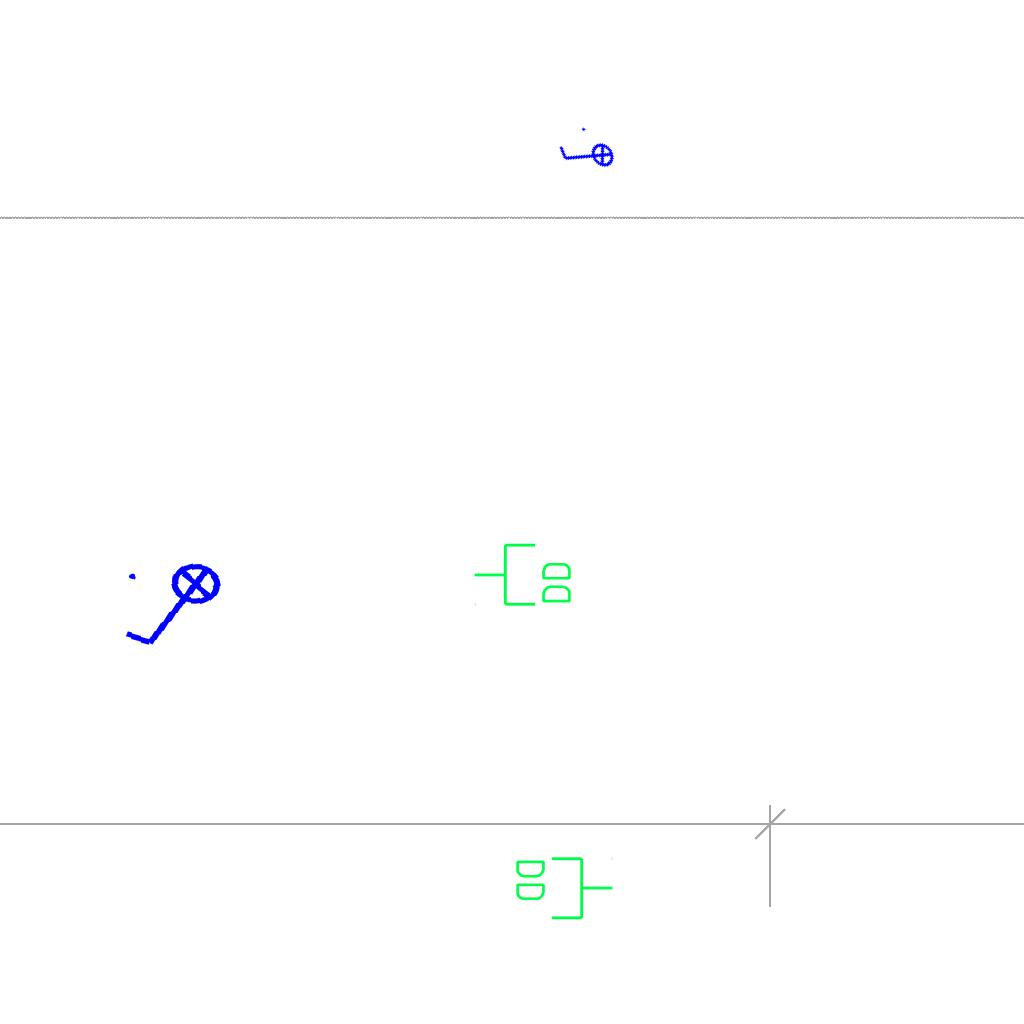Ausschalter_beleuchtet: (115, 554, 237, 662), (550, 119, 624, 193)
Datenanschluss_zweifach: (472, 541, 575, 610), (512, 853, 615, 922)
